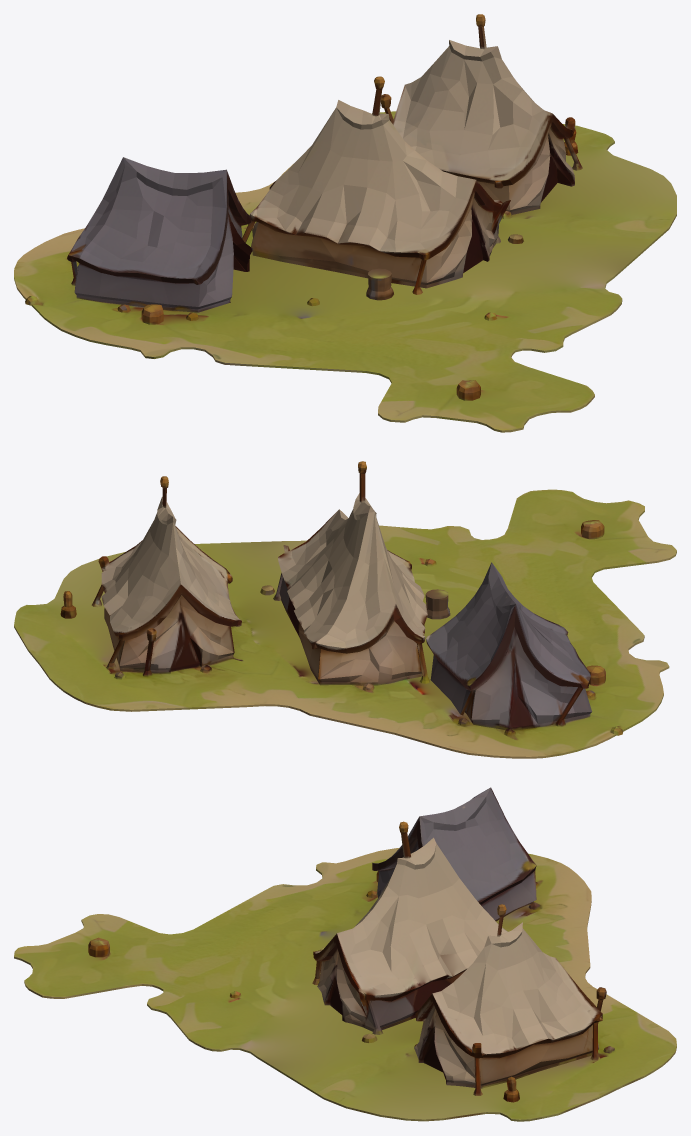
Rendered from tent.fbx.
The picture shows the model from 3 angles, top to bottom: view 1: azimuth 30°, elevation 25°; view 2: azimuth 150°, elevation 25°; view 3: azimuth 270°, elevation 25°; orthographic projection. The views are drawn at different scales.
Visible parts, largest first — view 1: texture_pbr_v128; view 2: texture_pbr_v128; view 3: texture_pbr_v128.
Boxes of the visible parts, x1,y1,x2,y2 form: texture_pbr_v128: (14, 14, 676, 432); texture_pbr_v128: (14, 461, 676, 758); texture_pbr_v128: (14, 787, 676, 1121).
Bounding box in the file's own units: 186 × 52.76 × 190.
1 material, 1 textured.
